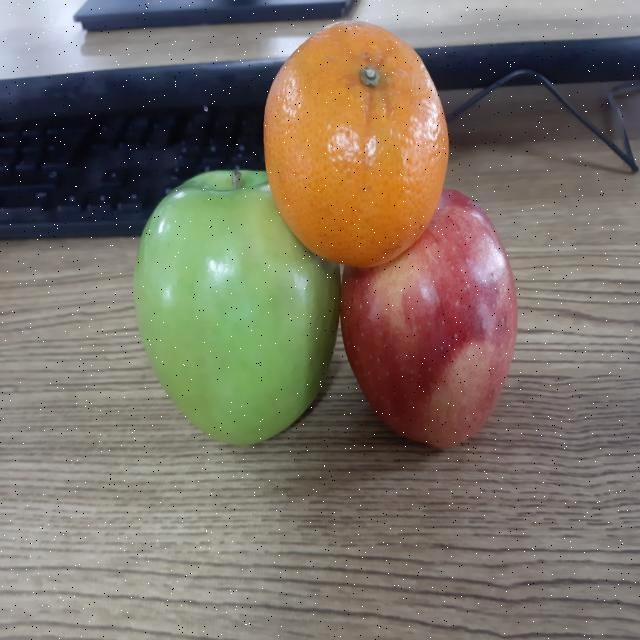Apel Gala: (336, 184, 522, 452)
Apel Granny Smith: (133, 156, 342, 449)
Jeruk Mandarin: (259, 19, 453, 272)
